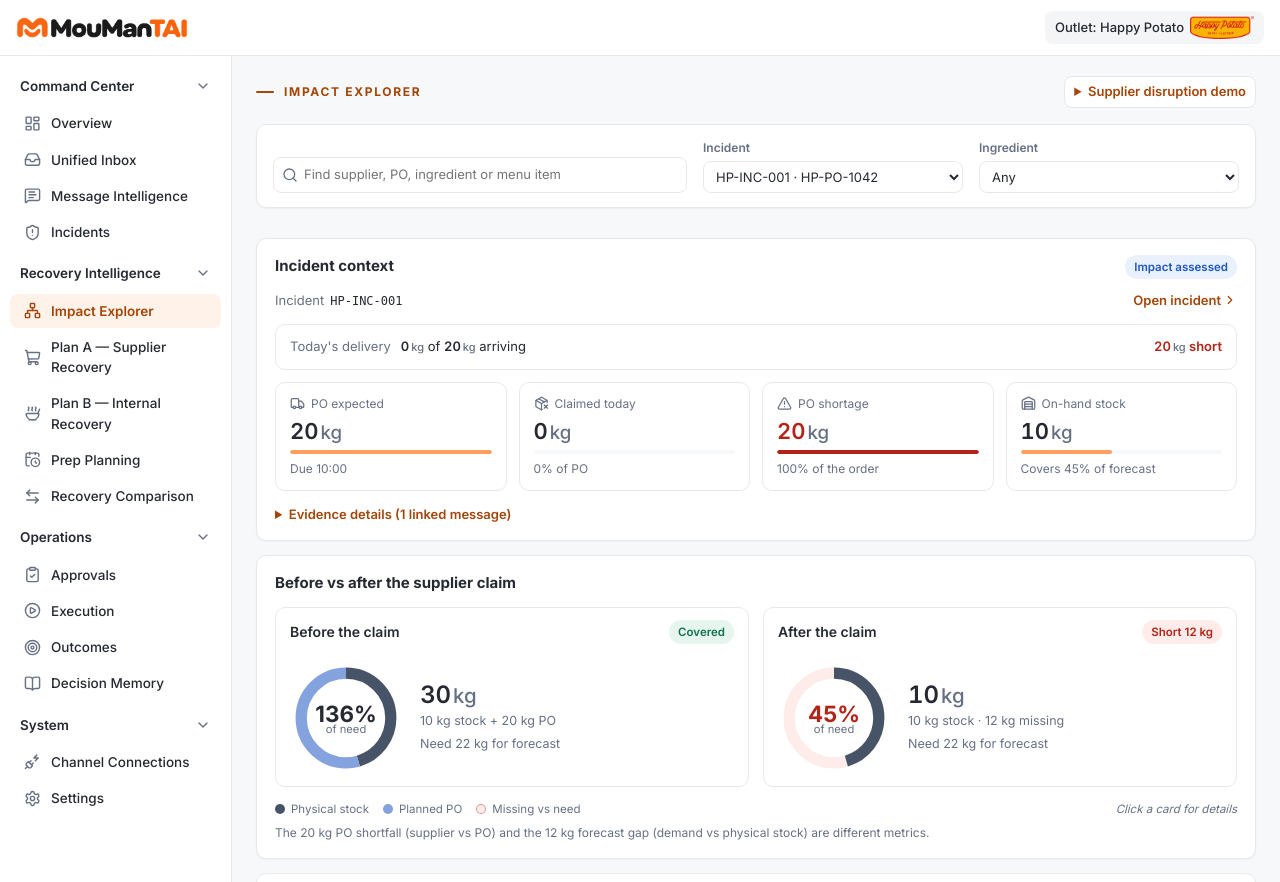
Impact Explorer page › ingredient selector focuses the ingredient node
Select "Frozen potato fries" in the dropdown labelled "Ingredient". click: (1109, 176)
box: left=979, top=160, right=1239, bottom=192
(page scrolled)
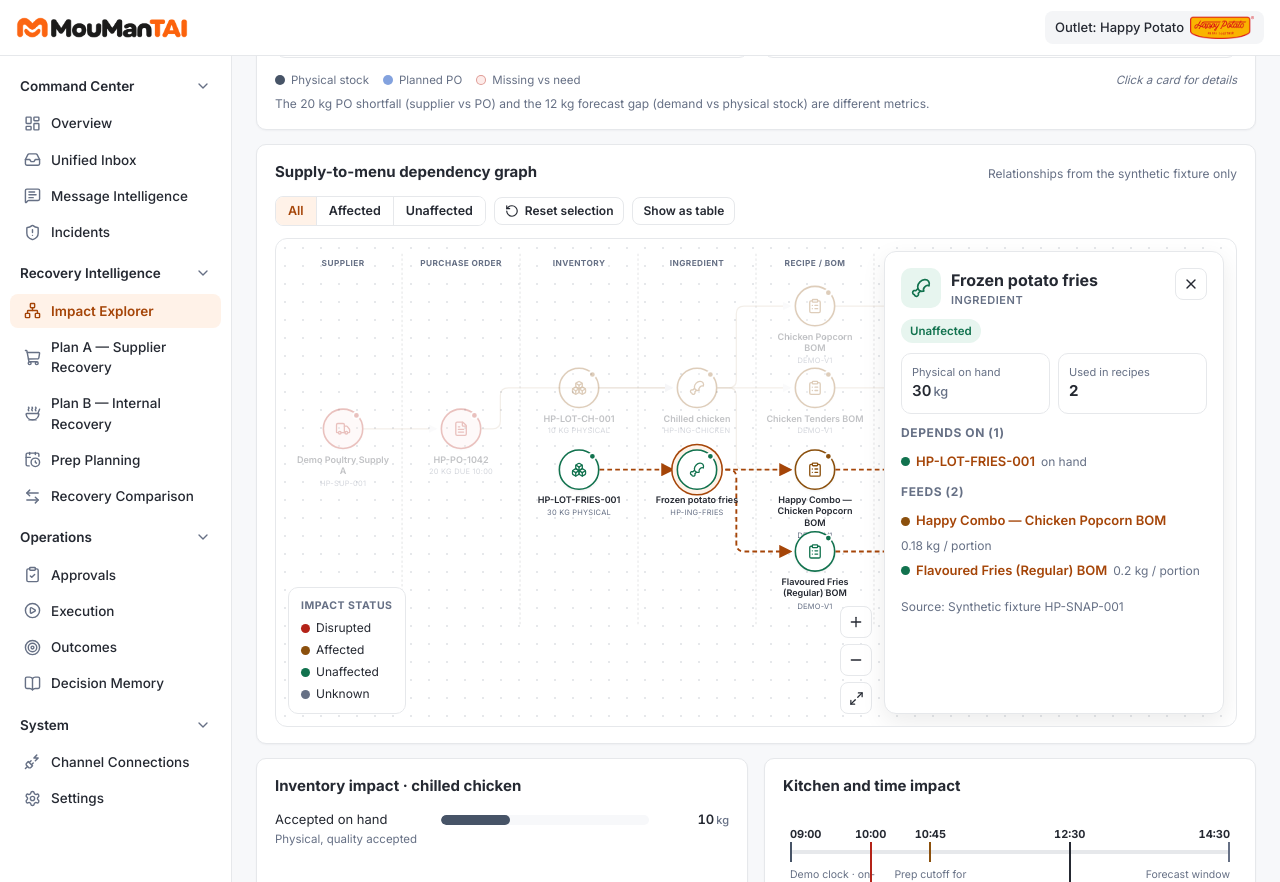
Result: the element named "Details for Frozen potato fries" is shown at left=884, top=251, right=1224, bottom=714
